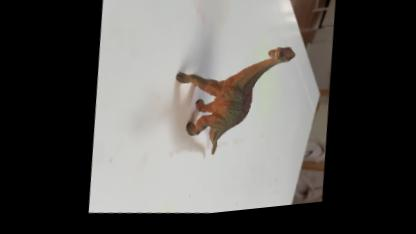brontosaurus: (165, 38, 299, 173)
